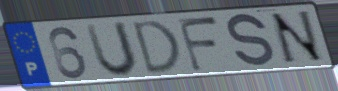6: (48, 25, 90, 82)
D: (131, 18, 185, 77)
F: (175, 15, 222, 74)
N: (267, 8, 328, 67)
S: (226, 11, 277, 71)
U: (82, 20, 141, 79)
